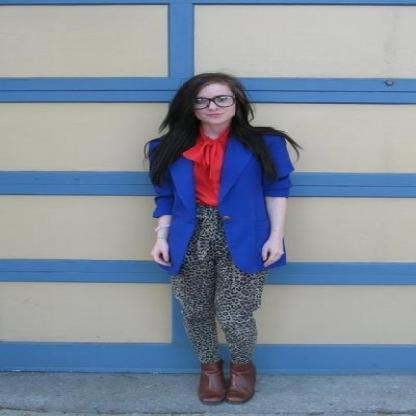jacket: (143, 134, 298, 274)
pants: (173, 201, 268, 363)
shirt: (182, 129, 227, 205)
shoe: (197, 356, 257, 405)
